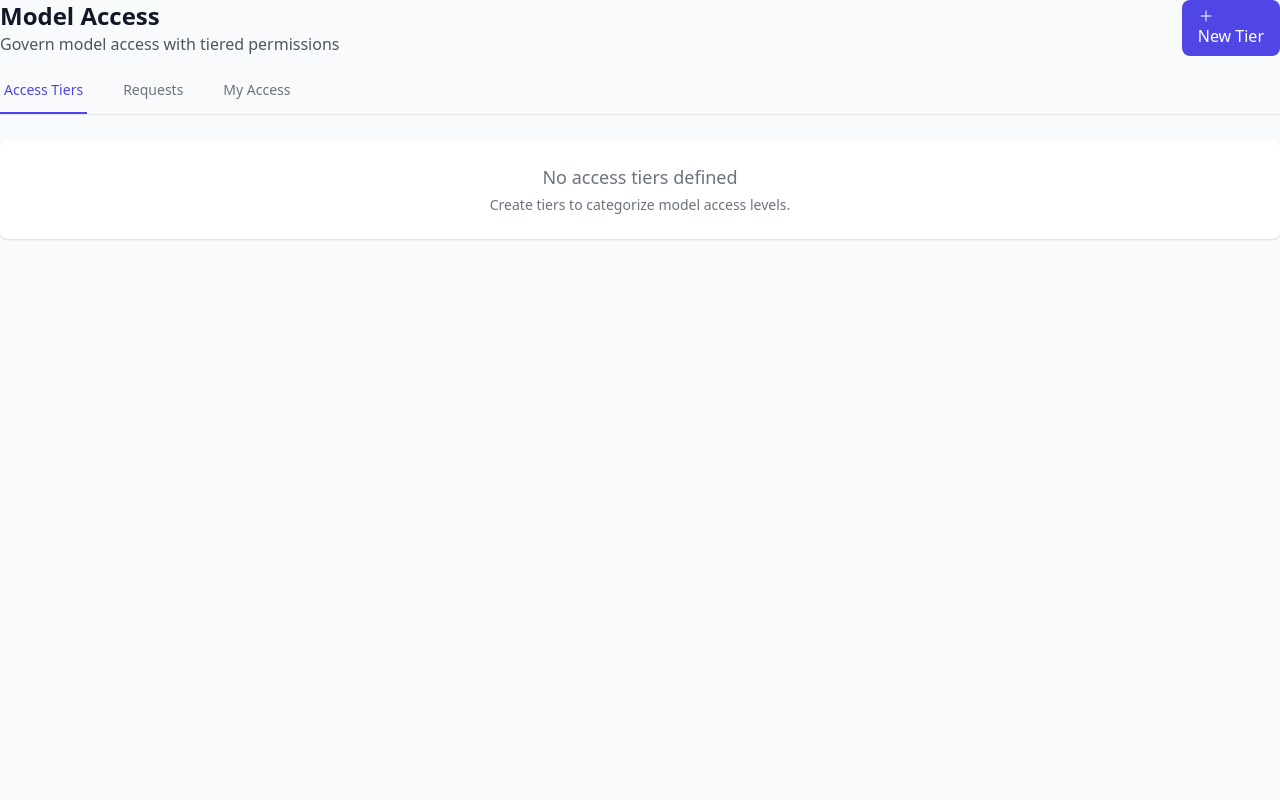
ModelAccess › adds a model to the tier form using Add button
Click the button "New Tier" at [1231, 28], box [1182, 0, 1279, 56]
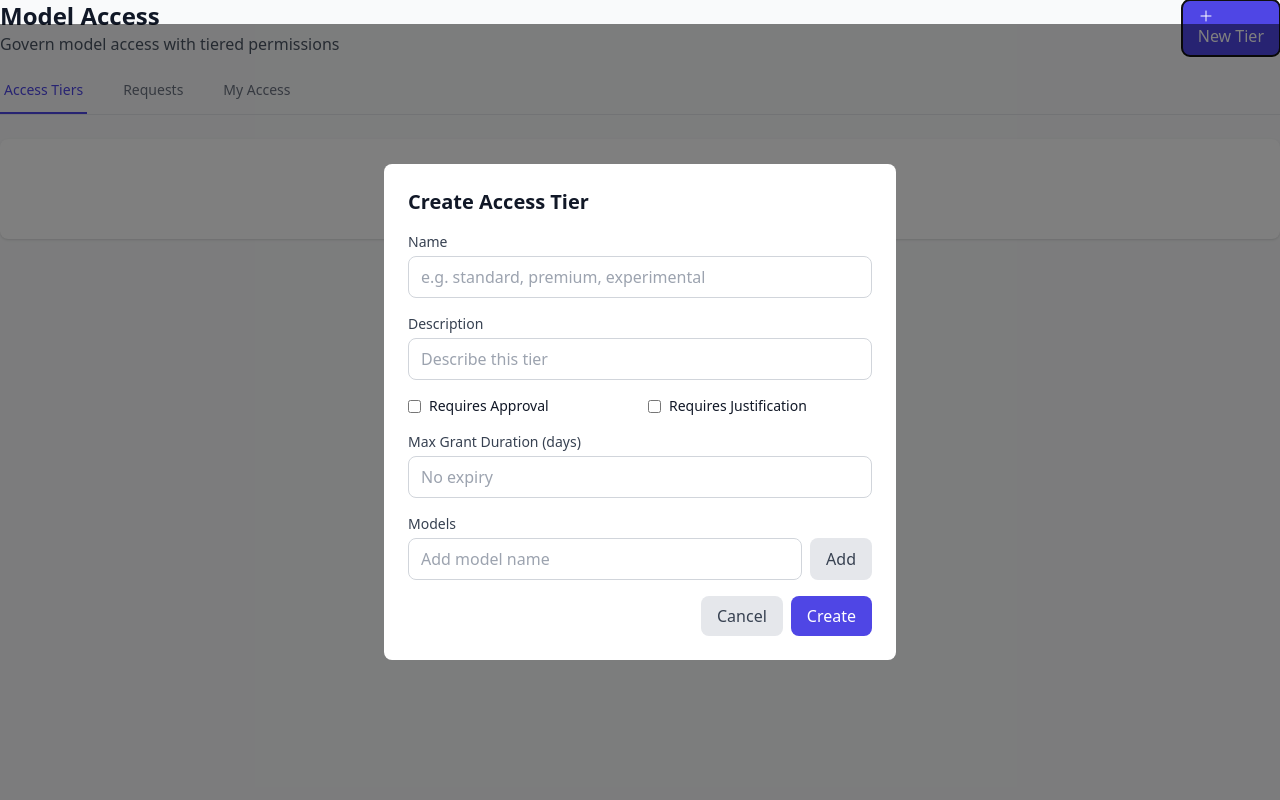
Type "gpt-4o" into the field with placeholder "Add model name" at [605, 559], box [408, 538, 802, 580]
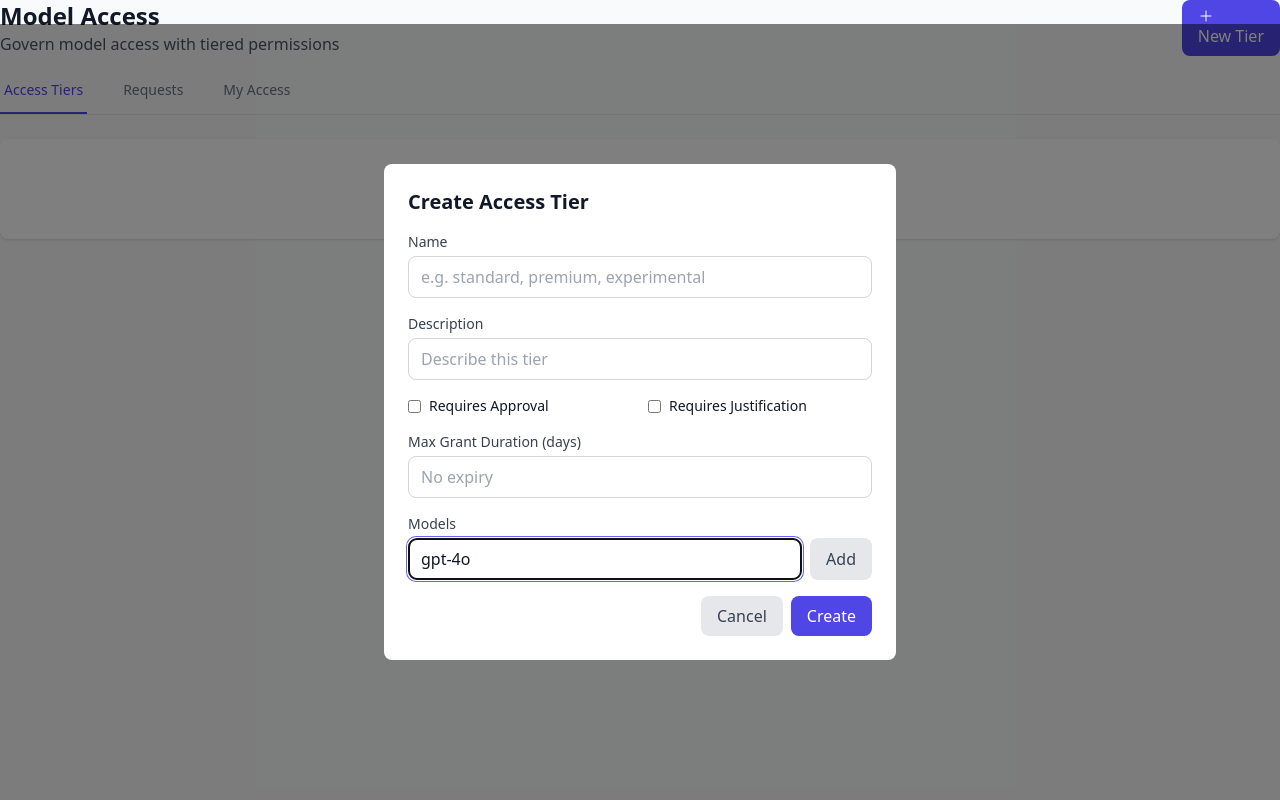
Click the button "Add" at [841, 559], box [810, 538, 872, 580]
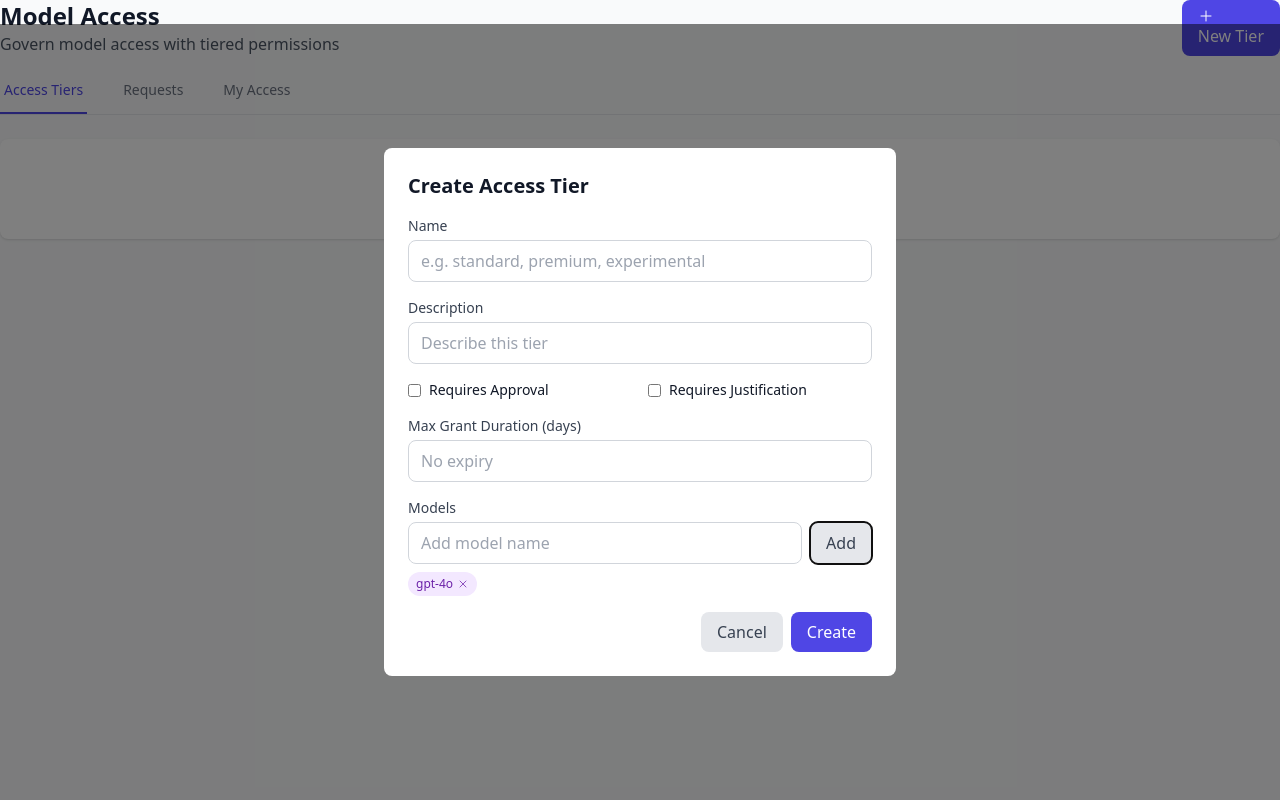
Result: the text "gpt-4o" is shown at [408, 572, 477, 596]
